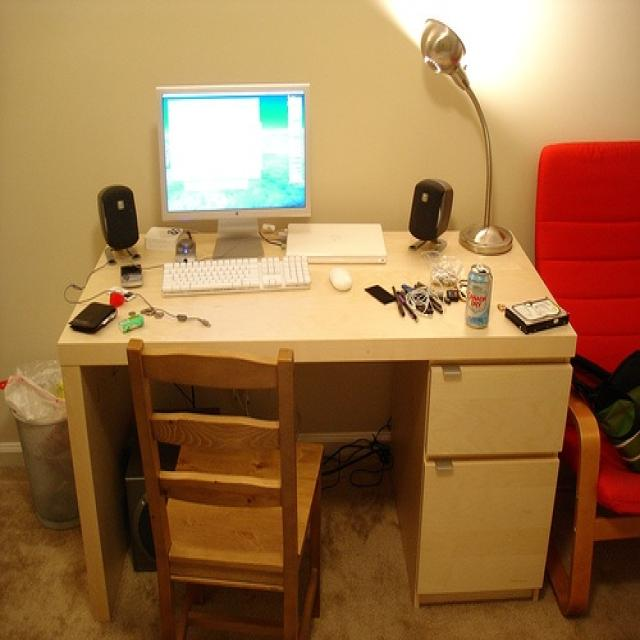chair: (129, 339, 326, 639), (540, 143, 640, 612)
tvmonitor: (157, 85, 312, 261)
